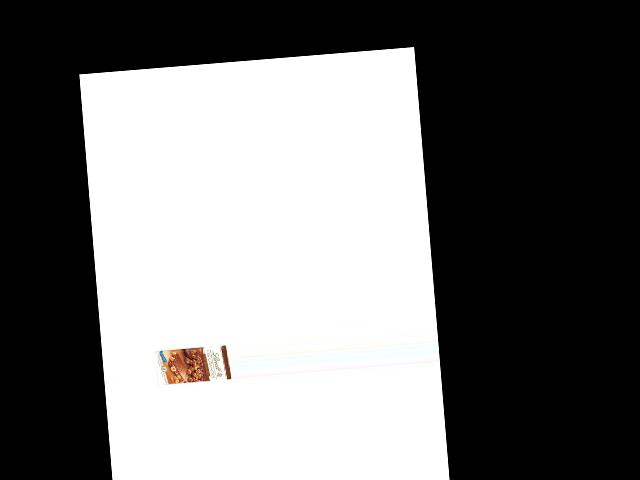chocolate: (158, 342, 229, 390)
